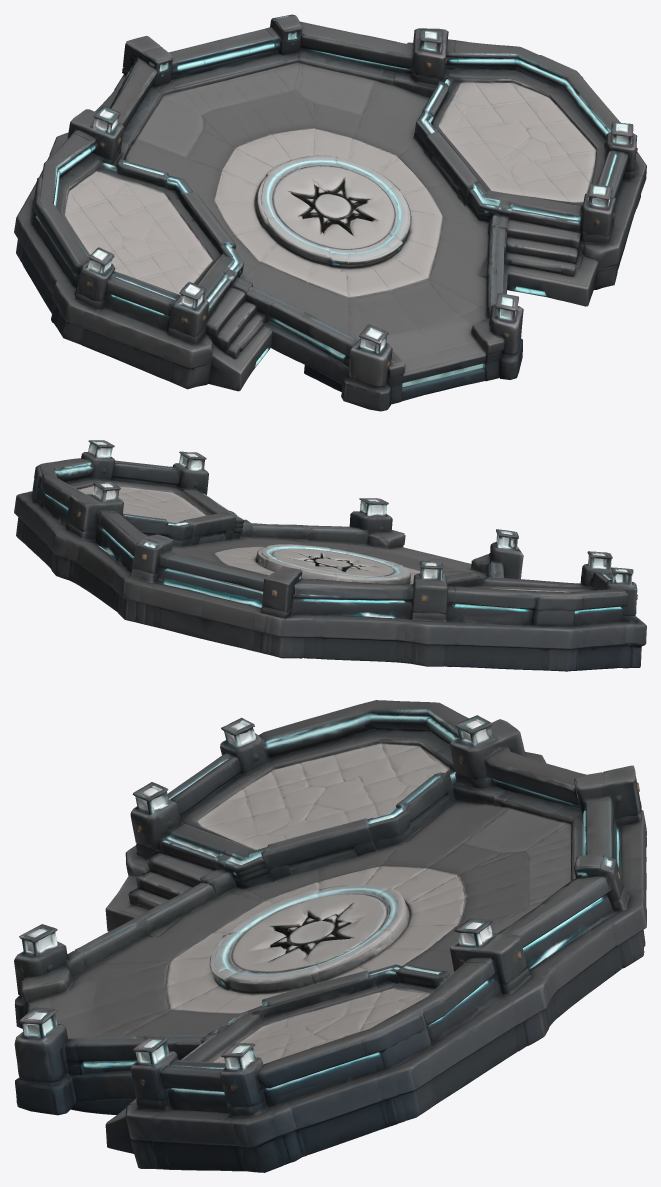
Rendered from tripo_convert_392af453-5e65-4e90-9996-df4eb7bcef8d.fbx.
The picture shows the model from 3 angles, top to bottom: view 1: azimuth 30°, elevation 25°; view 2: azimuth 150°, elevation 25°; view 3: azimuth 270°, elevation 25°; orthographic projection. The views are drawn at different scales.
Visible parts, largest first — view 1: tripo_node_392af453; view 2: tripo_node_392af453; view 3: tripo_node_392af453.
Part boxes in pixels (<box>): tripo_node_392af453: <box>14,14,646,411</box>; tripo_node_392af453: <box>14,440,646,671</box>; tripo_node_392af453: <box>14,700,646,1172</box>.
Bounding box in the file's own units: 0.9797 × 0.3179 × 0.7282.
1 material, 1 textured.
